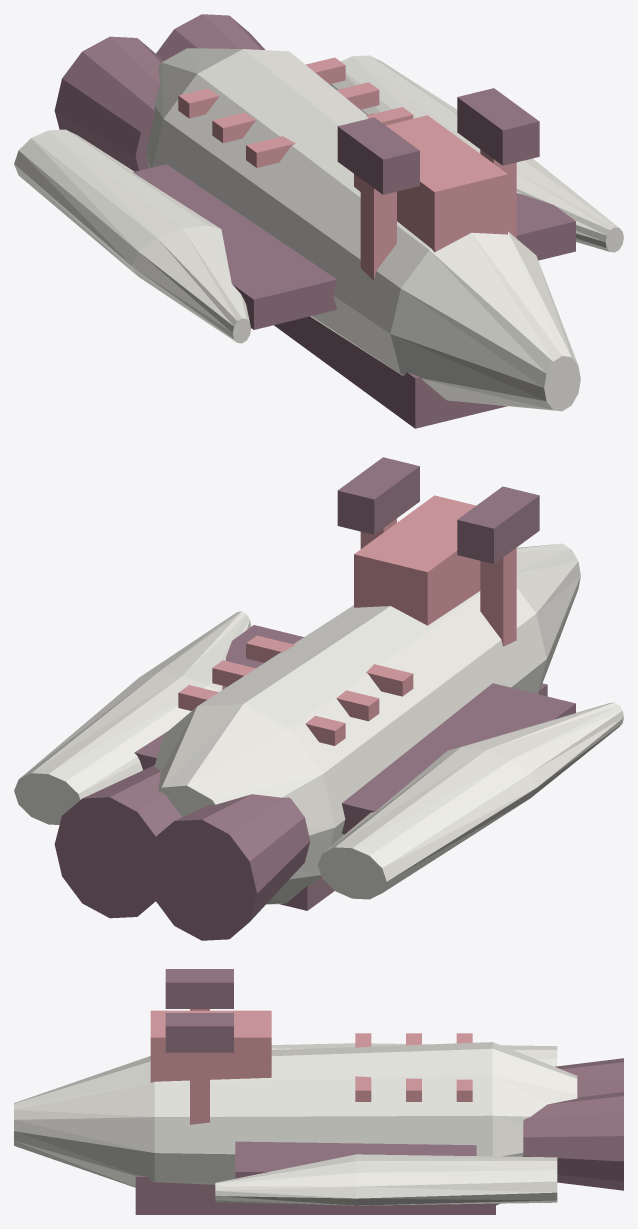
The picture shows the model from 3 angles, top to bottom: view 1: azimuth 30°, elevation 25°; view 2: azimuth 150°, elevation 25°; view 3: azimuth 270°, elevation 25°; orthographic projection. The views are drawn at different scales.
Bounding box in the file's own units: 3.7 × 2.35 × 6.43.
